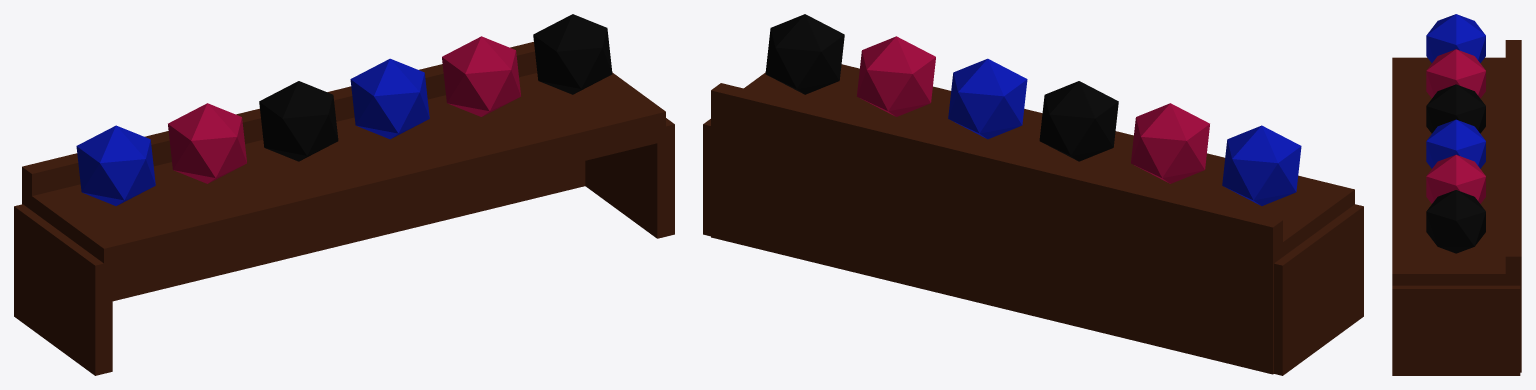
Rendered from ball_rack.obj.
3 renders of one model, left to right at view 1: azimuth 30°, elevation 25°; view 2: azimuth 150°, elevation 25°; view 3: azimuth 270°, elevation 25°, orthographic. The views are drawn at different scales.
Parts seen in each view (by area): view 1: ball_rack; view 2: ball_rack; view 3: ball_rack.
Boxes of the visible parts, x1,y1,x2,y2 form: ball_rack: [14, 14, 674, 375]; ball_rack: [703, 14, 1363, 375]; ball_rack: [1392, 14, 1521, 375].
Size of the model in its own units: 1.65 by 0.56 by 0.405.
